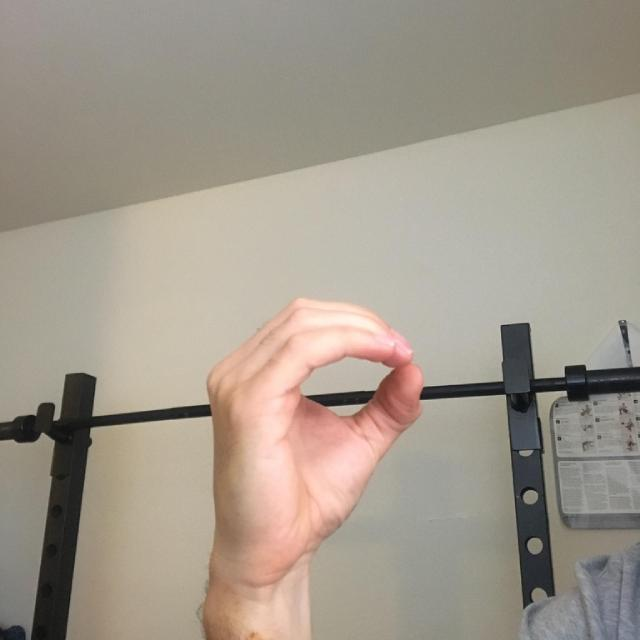O: (175, 279, 506, 595)
